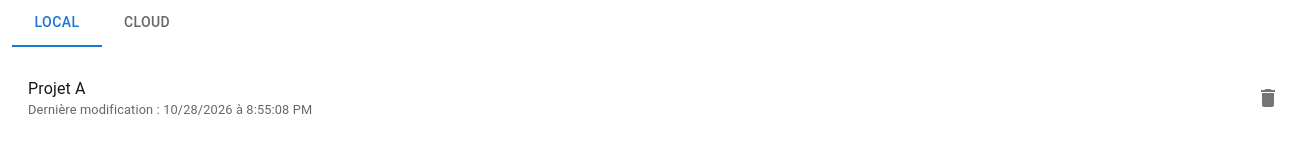
Test: ProjectsList › supprime le projet après confirmation
Check: the text "Projet A" is shown, box [28,79,86,98]
What coordinates should you click on to do the following:
click the button named "delete"
I would click on:
 (1268, 98)
Its box is [1248,78,1288,118].
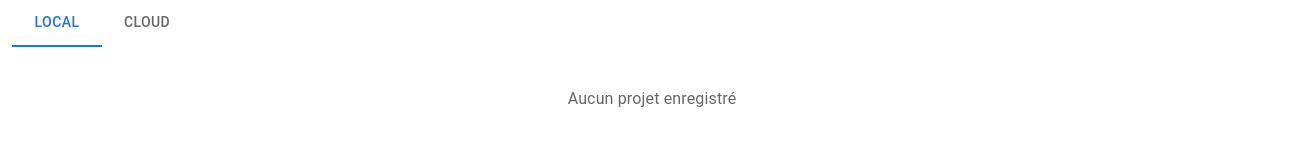
Check: the button "Projet A" is gone
